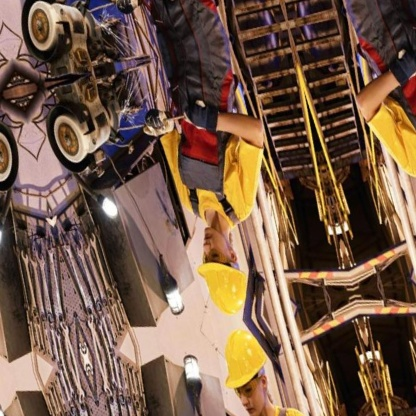yellow: (195, 256, 257, 328)
